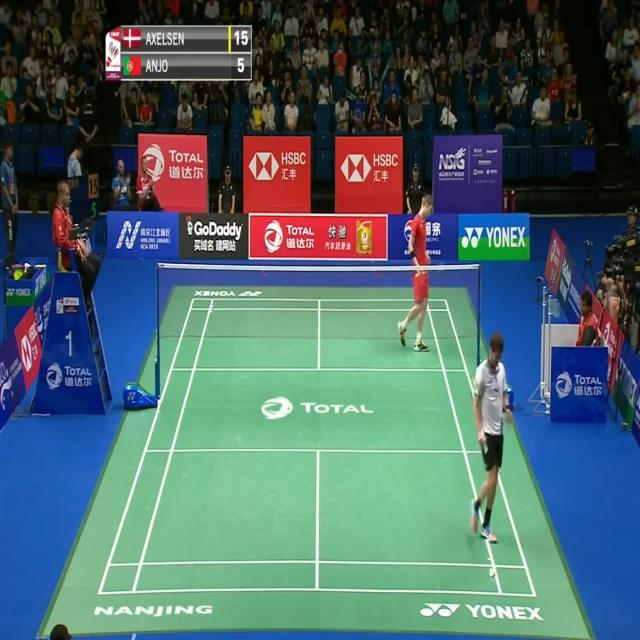Player1: (472, 320, 514, 553)
Player2: (395, 191, 443, 357)
